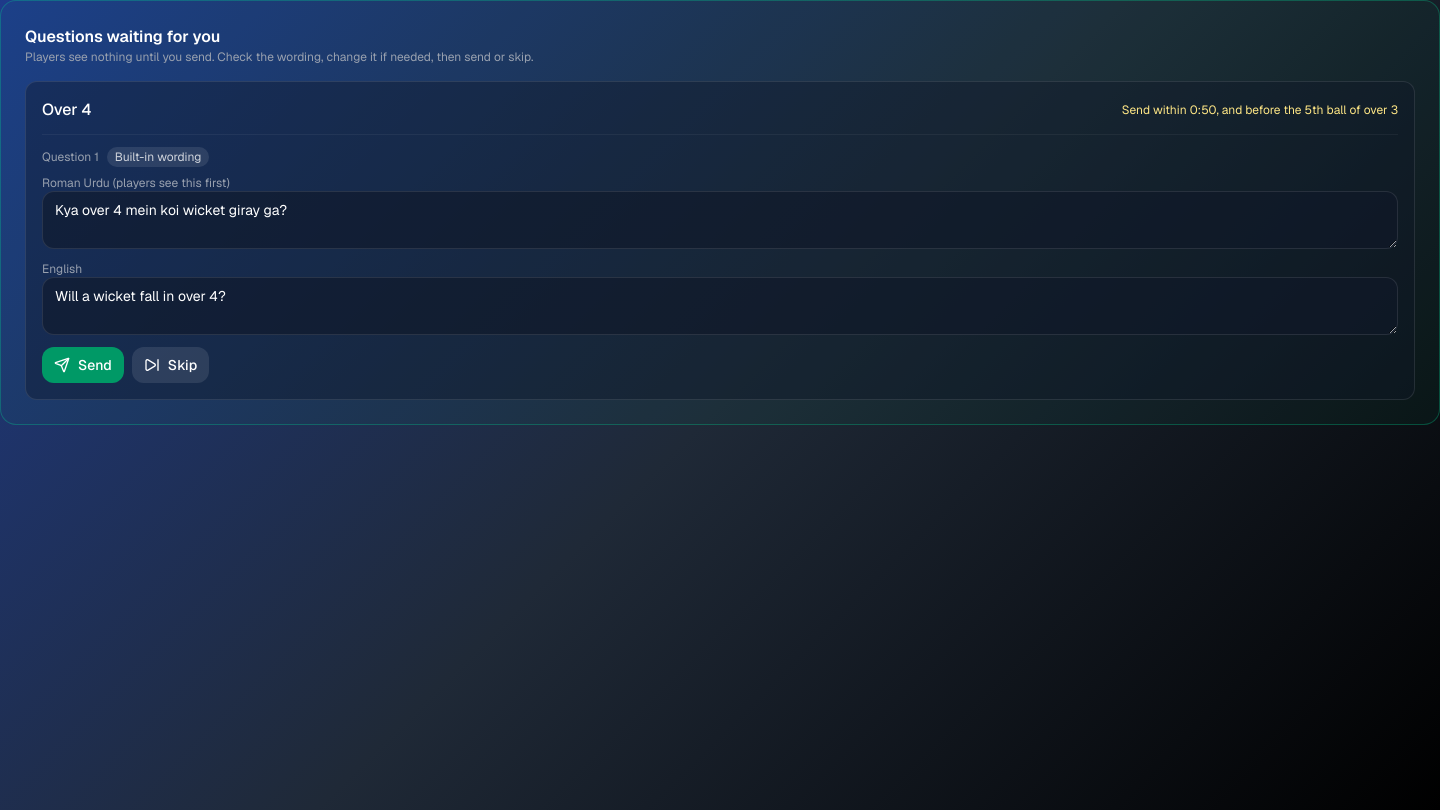
Scenario: QuestionReview › skips a question, forgetting its edits once skipped
Replace the text in the text box labelled "English" with "Edited over 4?" at (720, 306), box [42,277,1398,335]
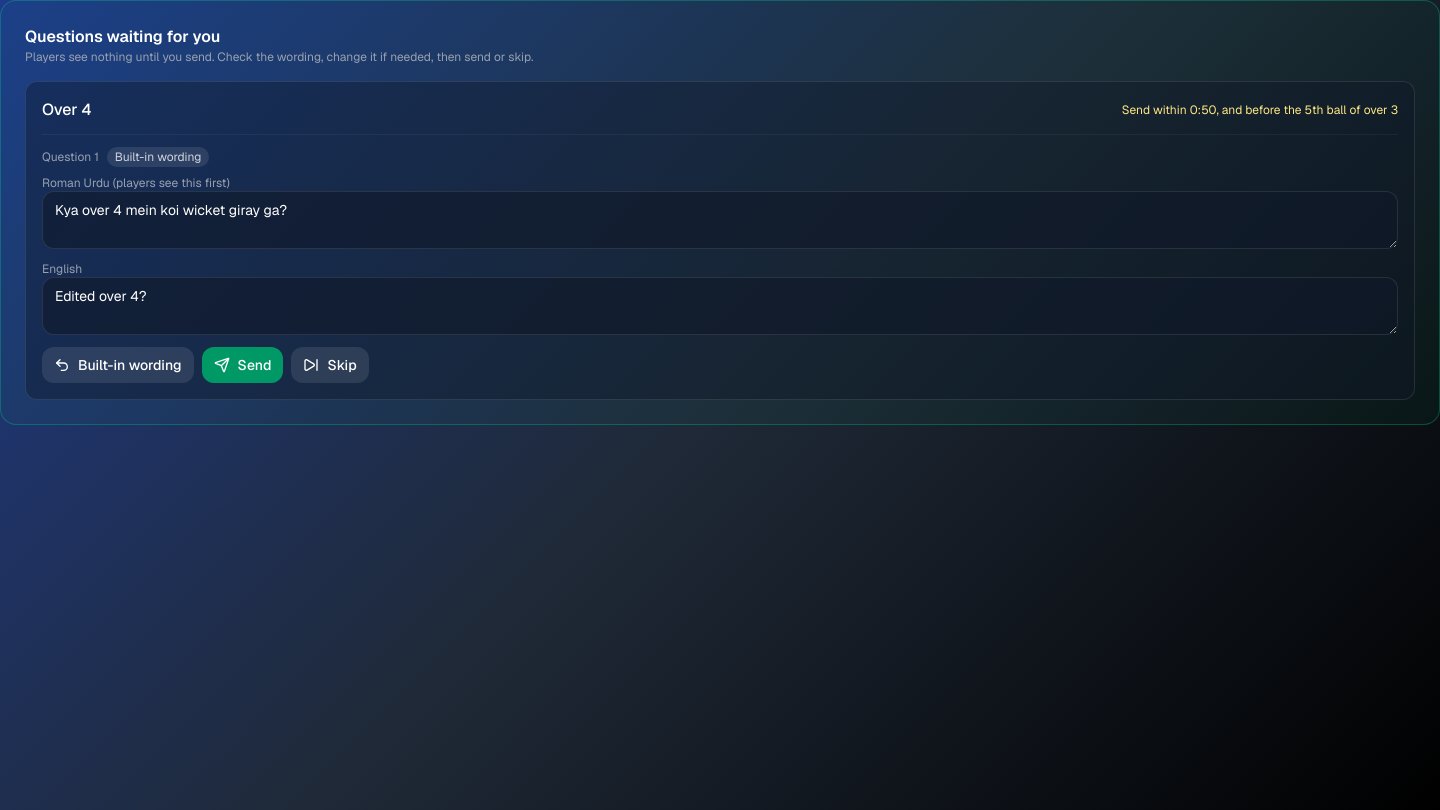
Click the button with aria-label "Skip over 4 question 1" at (330, 365), box [292,347,369,383]
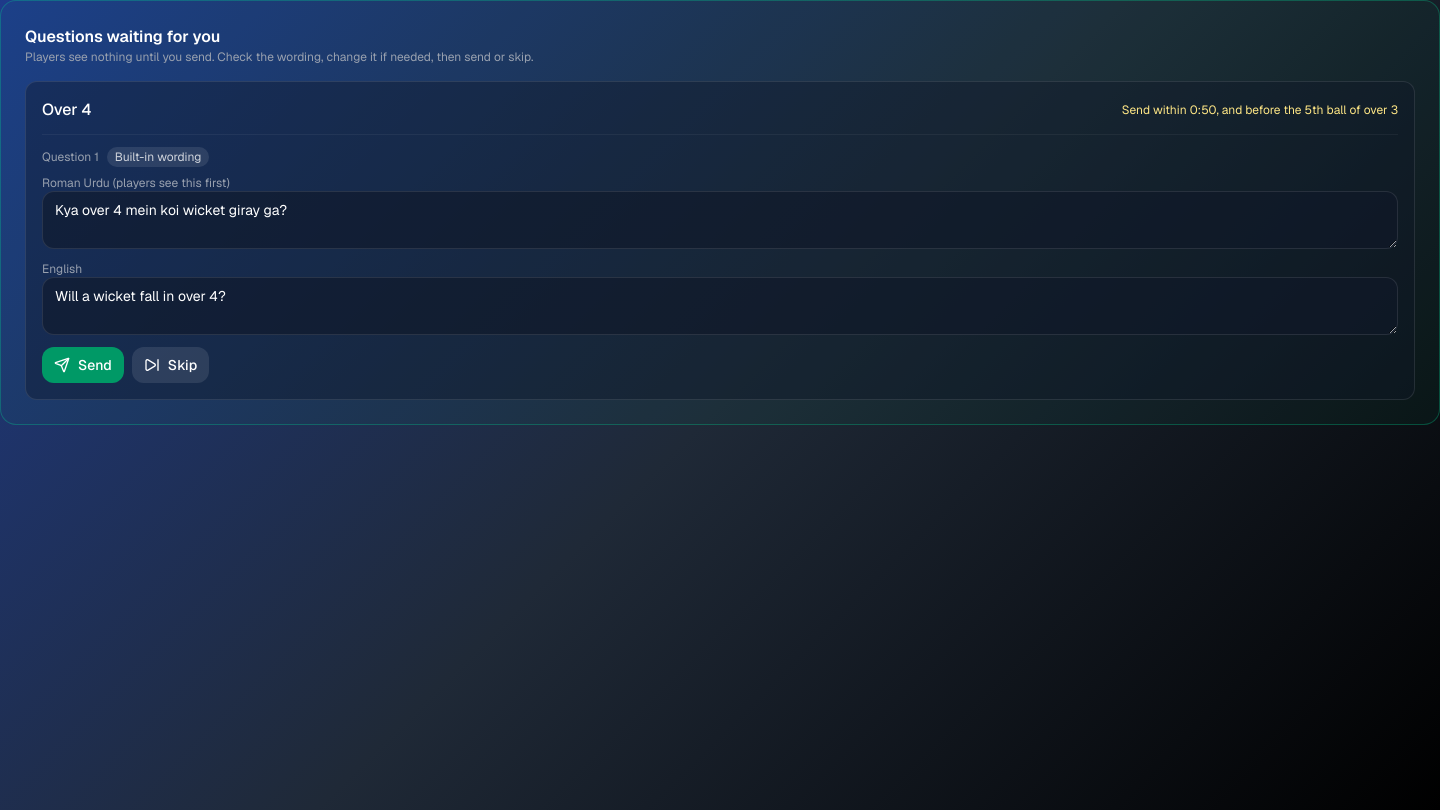
Expected: the text box labelled "English" holds "Will a wicket fall in over 4?", [42,277,1398,335]
